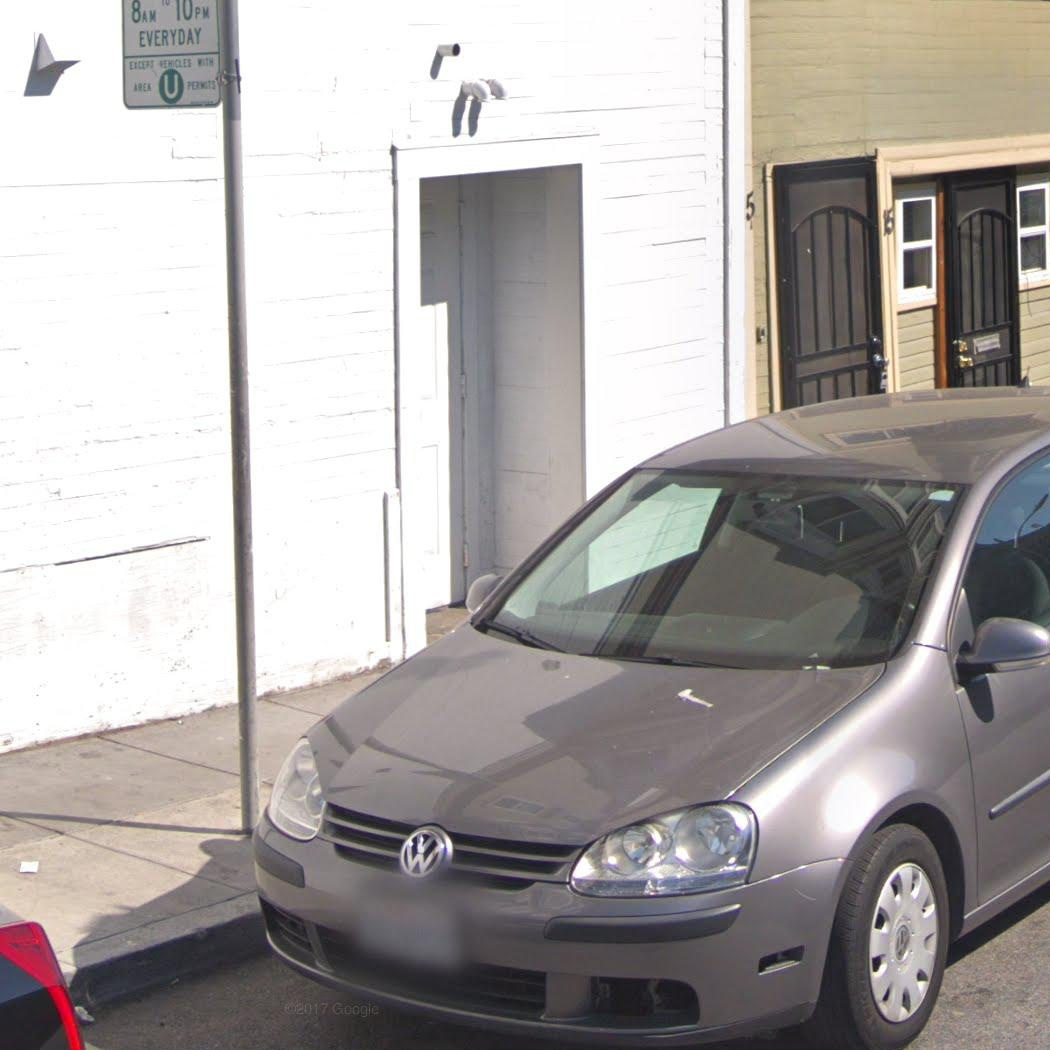2 Hour Parking: (119, 0, 224, 111)
